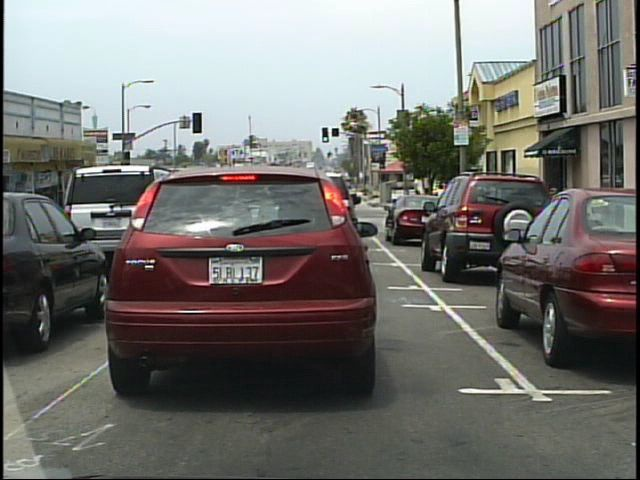person: (401, 188, 412, 222), (412, 188, 422, 220)
